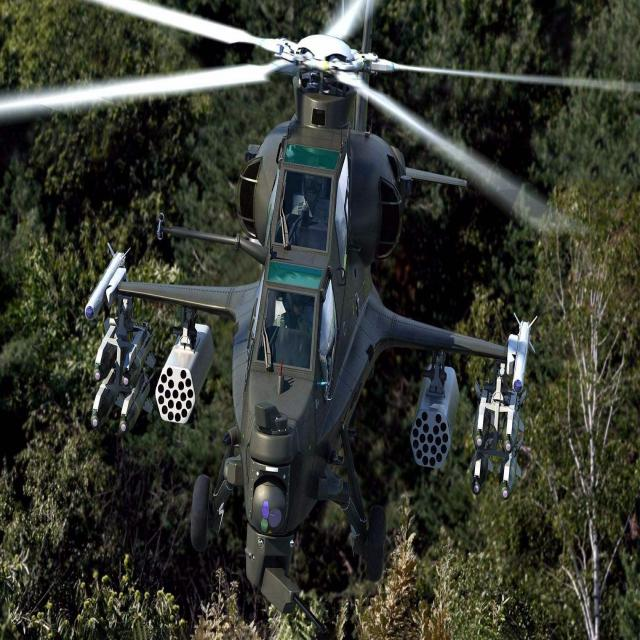MIL_HELO: (4, 0, 637, 601)
